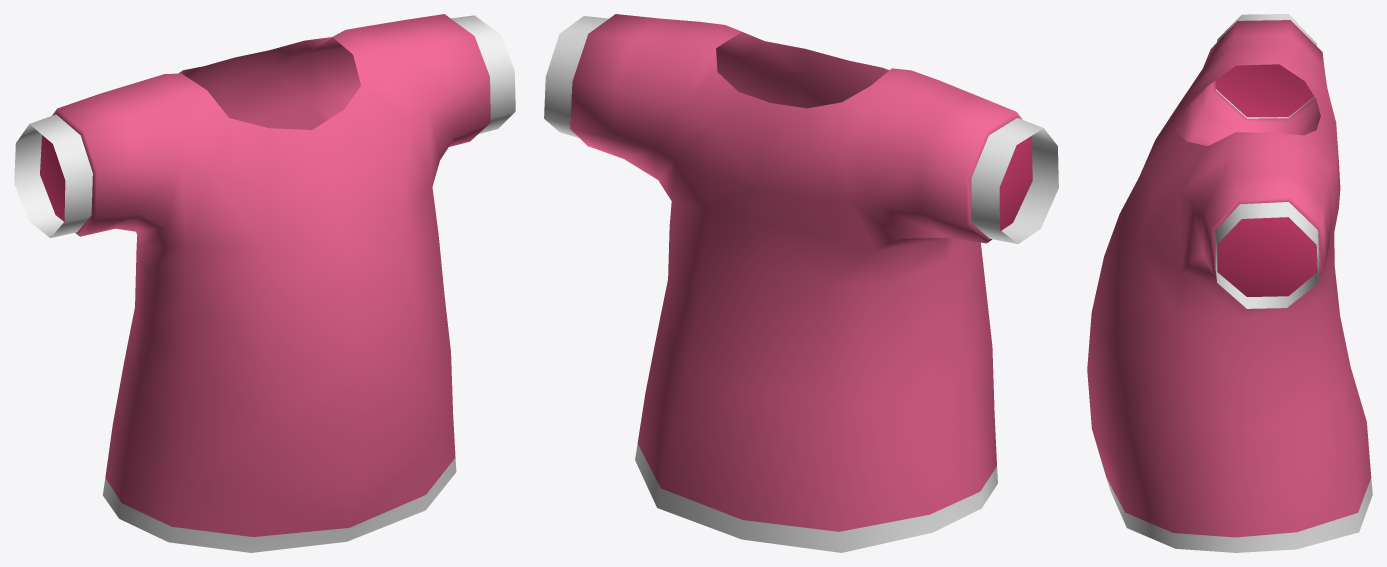
The model's file is Outerwear_Pink_013.glb.
The picture shows the model from 3 angles, left to right: view 1: azimuth 30°, elevation 25°; view 2: azimuth 150°, elevation 25°; view 3: azimuth 270°, elevation 25°; orthographic projection. The views are drawn at different scales.
Parts seen in each view (by area): view 1: Outerwear_Pink_013; view 2: Outerwear_Pink_013; view 3: Outerwear_Pink_013.
Part boxes in pixels (x1=…): Outerwear_Pink_013: x1=14, y1=14, x2=515, y2=552; Outerwear_Pink_013: x1=544, y1=14, x2=1058, y2=552; Outerwear_Pink_013: x1=1087, y1=14, x2=1372, y2=552.
Size of the model in its own units: 0.6893 by 0.6211 by 0.4041.
1 material, 1 textured.
